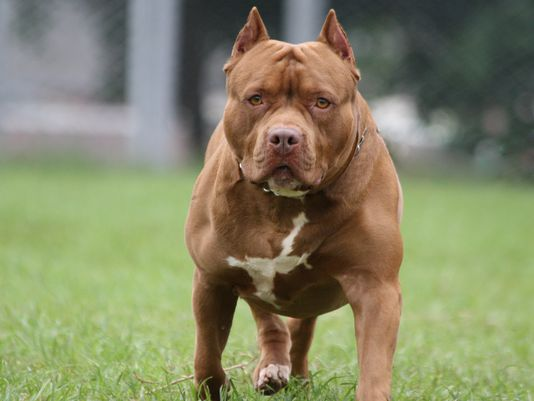dog: (186, 6, 405, 401)
